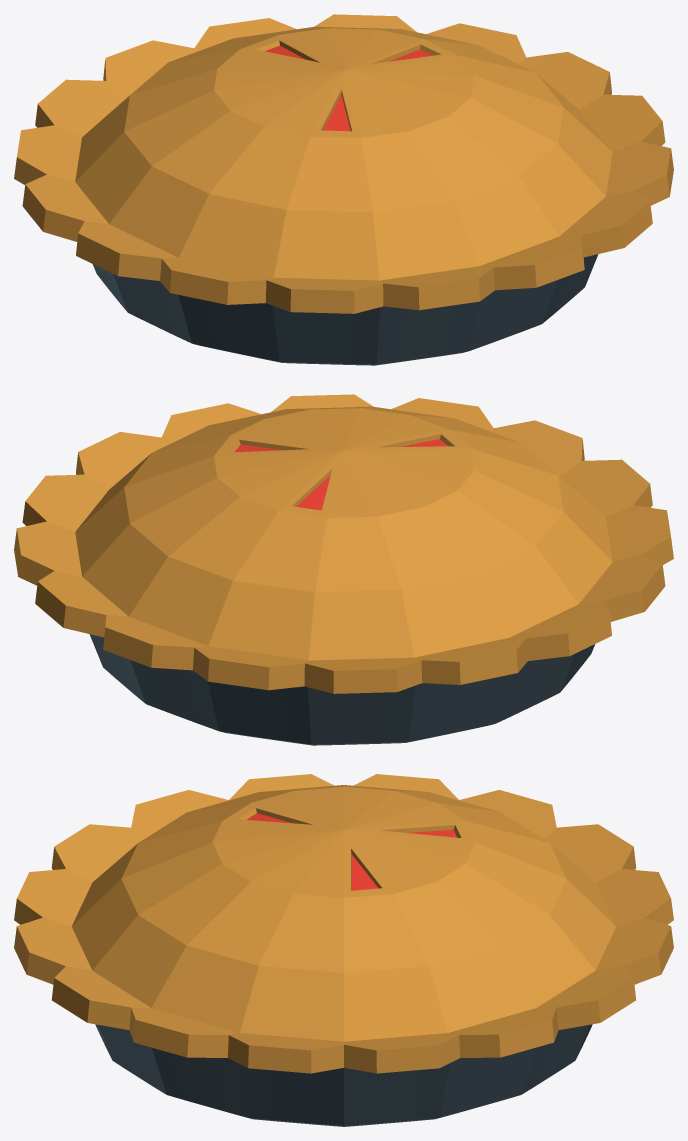
The model's file is 3cbde6a8-e842-4529-bb7b-248066b9f459.glb.
3 views of the same model, one above another, from view 1: azimuth 30°, elevation 25°; view 2: azimuth 150°, elevation 25°; view 3: azimuth 270°, elevation 25° (orthographic).
Visible parts, largest first — view 1: Circle.001; view 2: Circle.001; view 3: Circle.001.
Part boxes in pixels (x1,y1,x2,y2): Circle.001: (14,14,673,365); Circle.001: (14,394,673,745); Circle.001: (14,774,673,1126).
Bounding box in the file's own units: 9.87 × 3.25 × 9.87.
